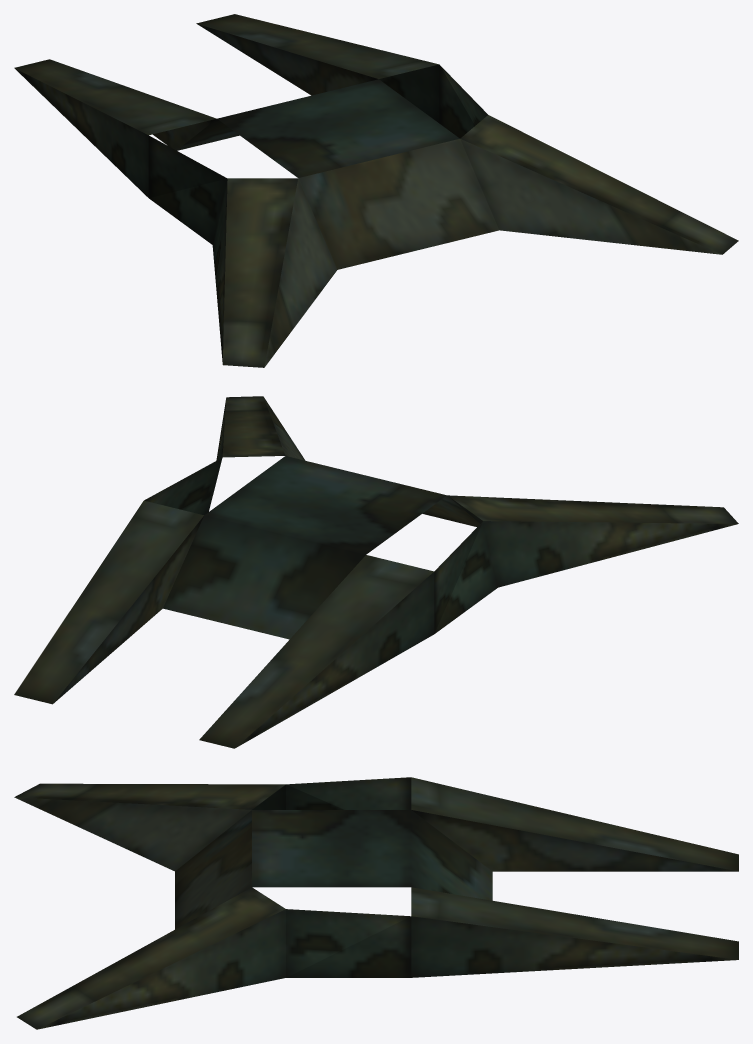
The model's file is machinegun-base.obj.
3 renders of one model, top to bottom at view 1: azimuth 30°, elevation 25°; view 2: azimuth 150°, elevation 25°; view 3: azimuth 270°, elevation 25°, orthographic. The views are drawn at different scales.
Visible parts, largest first — view 1: MachineGunBase; view 2: MachineGunBase; view 3: MachineGunBase.
Boxes of the visible parts, bbox=[...] form: MachineGunBase: bbox=[14, 14, 738, 367]; MachineGunBase: bbox=[14, 396, 738, 748]; MachineGunBase: bbox=[14, 777, 738, 1029].
Size of the model in its own units: 7.54 by 0.8812 by 9.39.
1 material, 1 textured.
